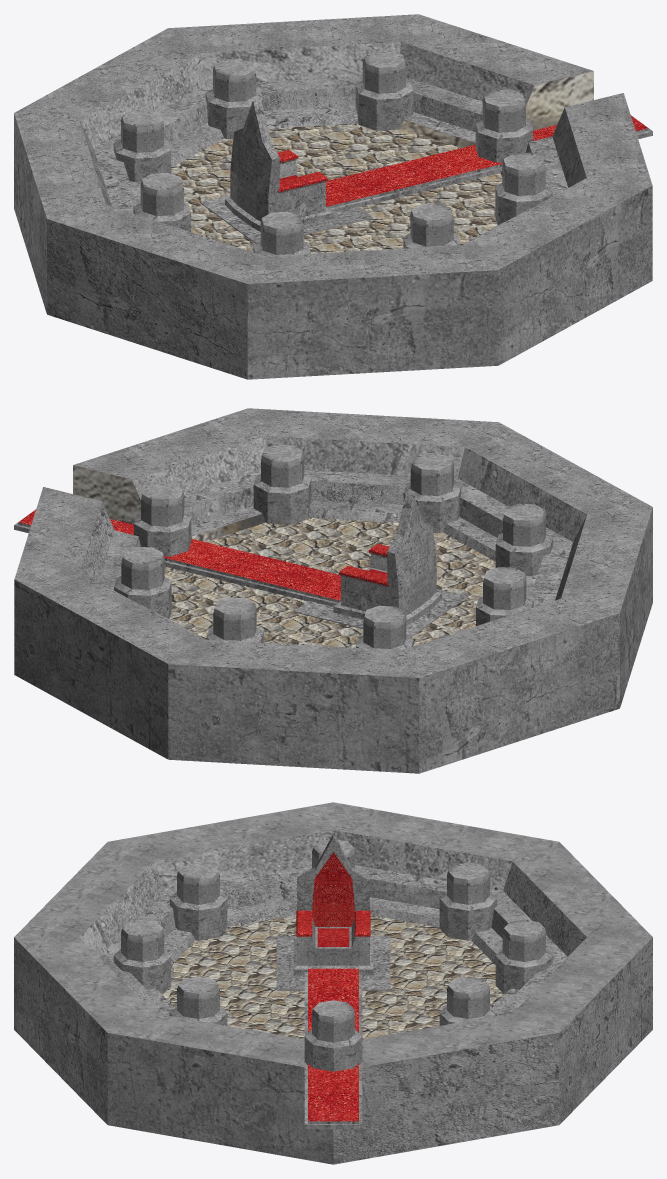
Rendered from court room but better.glb.
3 renders of one model, top to bottom at view 1: azimuth 30°, elevation 25°; view 2: azimuth 150°, elevation 25°; view 3: azimuth 270°, elevation 25°, orthographic. The views are drawn at different scales.
Visible parts, largest first — view 1: Cylinder, Cylinder.001, Cube.002, Cube, Cube.001; view 2: Cylinder, Cylinder.001, Cube.002, Cube, Cube.001; view 3: Cylinder, Cylinder.001, Cube.002, Cube, Cube.001.
Boxes of the visible parts, x1=… form: Cylinder: x1=14, y1=14, x2=652, y2=379; Cylinder.001: x1=113, y1=50, x2=552, y2=256; Cube.002: x1=225, y1=98, x2=333, y2=231; Cube: x1=326, y1=115, x2=652, y2=212; Cube.001: x1=200, y1=195, x2=372, y2=243; Cylinder: x1=14, y1=408, x2=652, y2=773; Cylinder.001: x1=114, y1=444, x2=553, y2=650; Cube.002: x1=333, y1=492, x2=441, y2=625; Cube: x1=14, y1=509, x2=340, y2=606; Cube.001: x1=294, y1=589, x2=466, y2=637; Cylinder: x1=14, y1=802, x2=652, y2=1164; Cylinder.001: x1=113, y1=839, x2=553, y2=1071; Cube.002: x1=293, y1=833, x2=373, y2=975; Cube: x1=304, y1=968, x2=362, y2=1129; Cube.001: x1=276, y1=936, x2=390, y2=990.
Bounding box in the file's own units: 22.91 × 6.07 × 22.19.
Materials: 5 (5 with a texture image).
